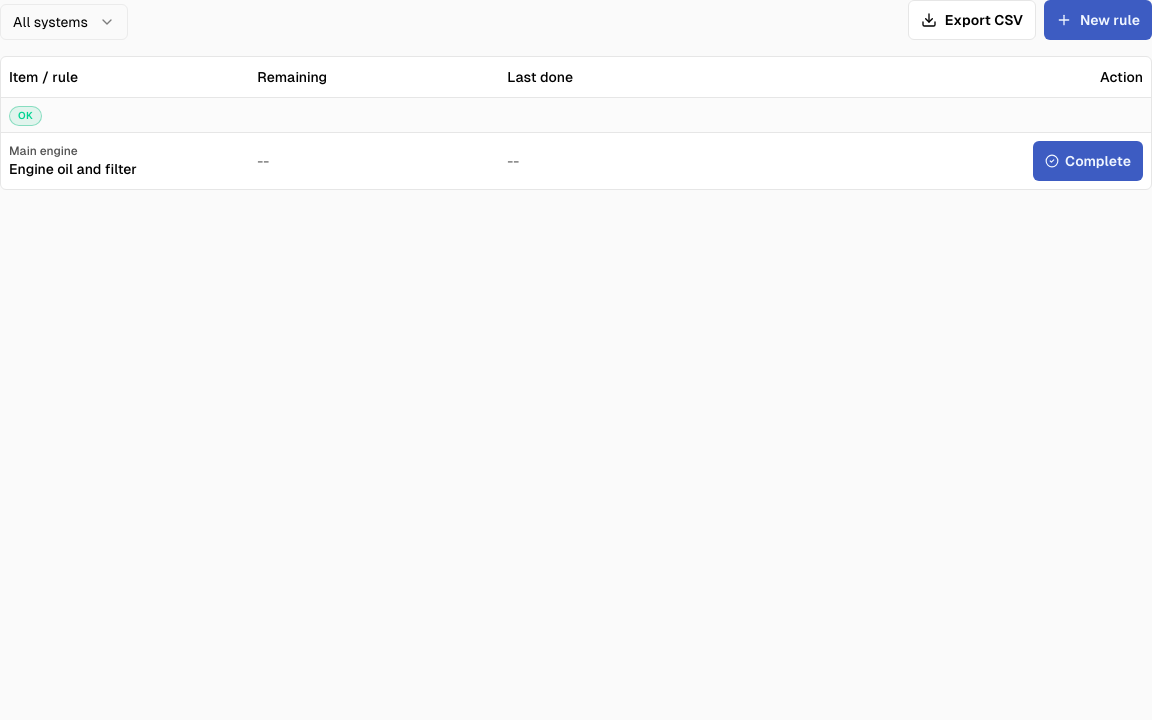
MaintenanceSection › opens a profile job in the overrides dialog, not the hand-rule form
Click the button "Engine oil and filter" at (73, 168), box [9,158,137,178]
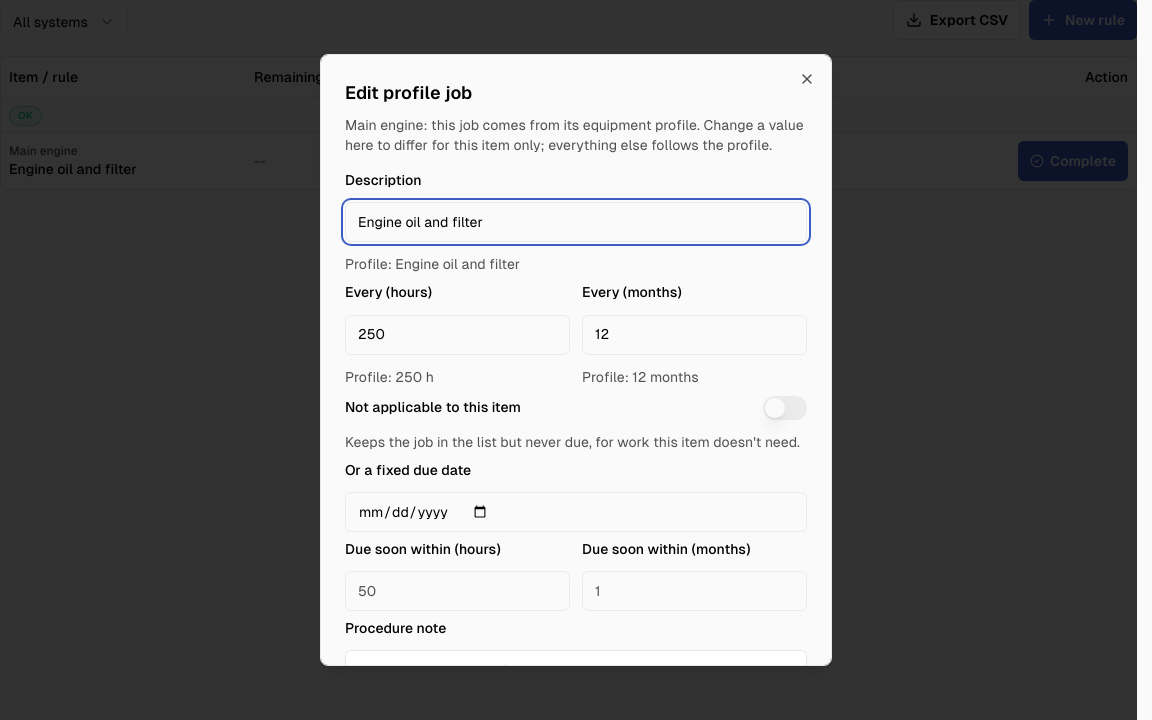
Expected: the heading "Edit profile job" is shown, [345,82,472,103]
